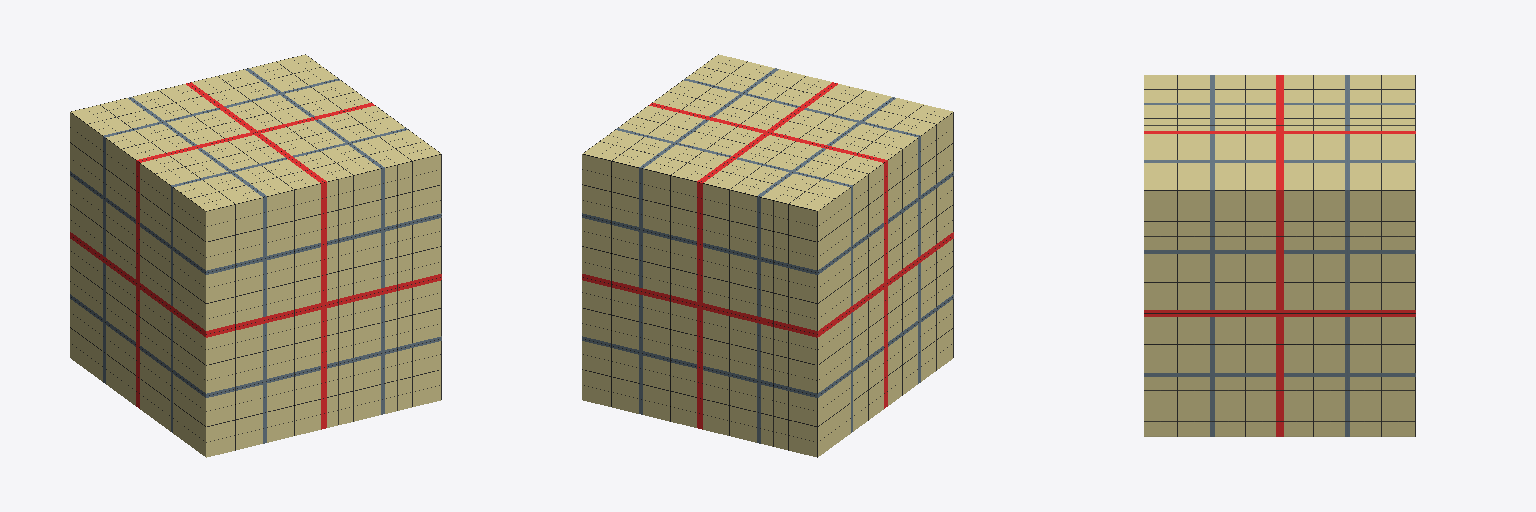
3 renders of one model, left to right at view 1: azimuth 30°, elevation 25°; view 2: azimuth 150°, elevation 25°; view 3: azimuth 270°, elevation 25°, orthographic.
Parts seen in each view (by area): view 1: Cube; view 2: Cube; view 3: Cube.
Part boxes in pixels (x1,y1,x2,y2): Cube: (70, 54, 441, 457); Cube: (582, 54, 953, 457); Cube: (1144, 75, 1415, 436).
Bounding box in the file's own units: 16.39 × 16.39 × 16.39.
1 materials, 1 textured.